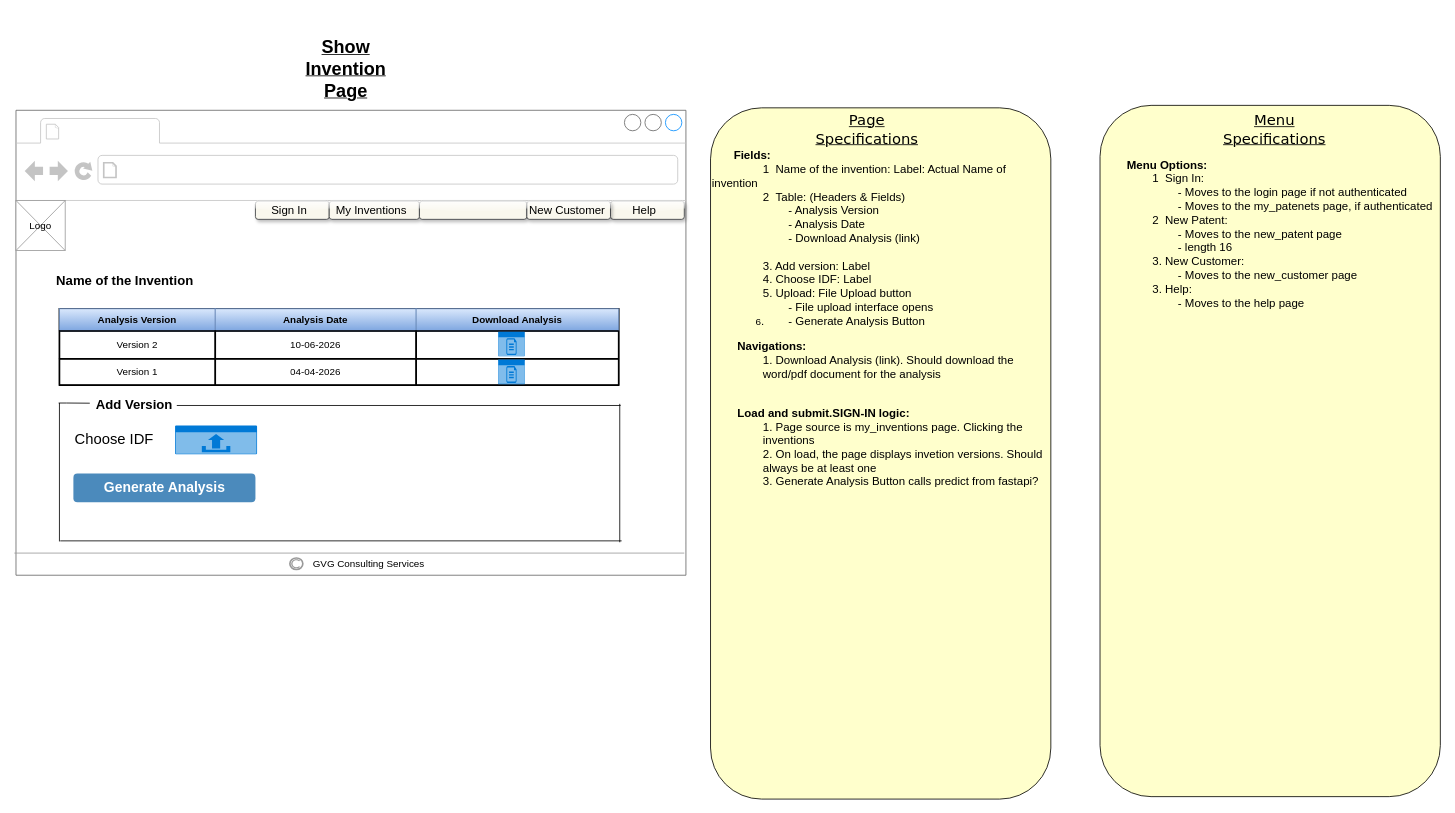
Image size: 1455x813. Some labels were removed from this diagram. The shapes that lost their labels are listed below. From the top down, each one's centre as x and y in pixels, then its label:
At point 109,129: "mypatent".
At point 255,164: "https://mypatent.gvgservices.com/show_invention".
At point 473,211: "New Invention".
At point 216,439: "Upload".
